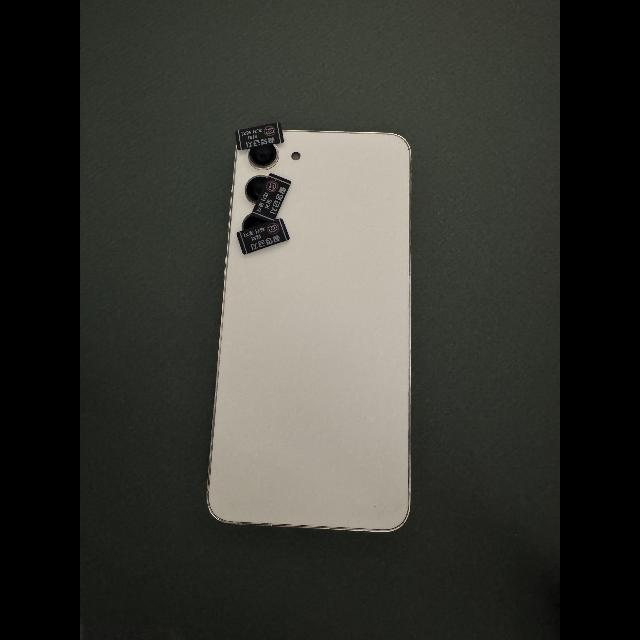lens: (248, 145, 278, 169), (245, 175, 268, 204), (242, 214, 266, 230)
phone: (206, 128, 412, 532)
sticker: (250, 173, 291, 224), (237, 217, 290, 255), (235, 122, 285, 150)
